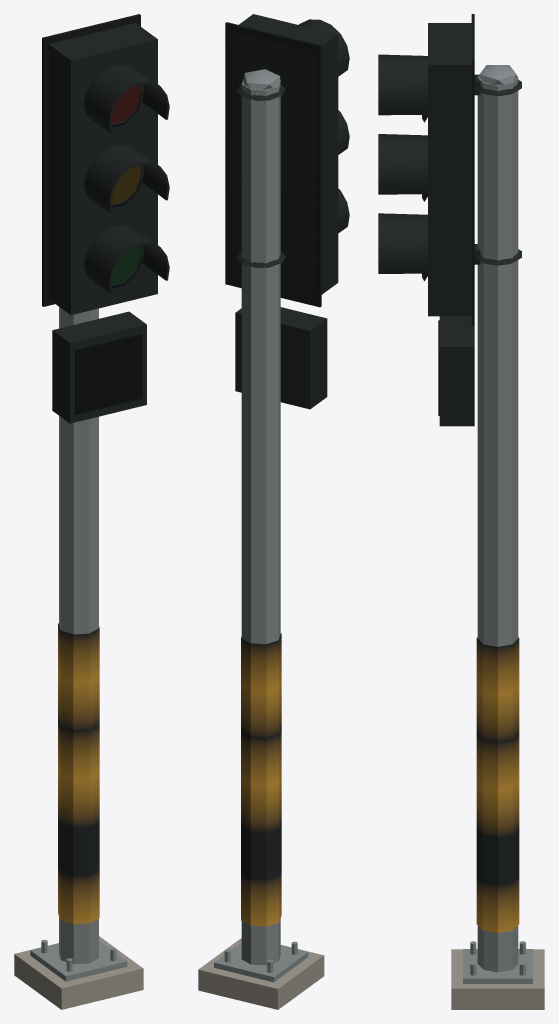
File: cot_den.glb
3 renders of one model, left to right at view 1: azimuth 30°, elevation 25°; view 2: azimuth 150°, elevation 25°; view 3: azimuth 270°, elevation 25°, orthographic. The views are drawn at different scales.
Visible parts, largest first — view 1: cot_den__tat; view 2: cot_den__tat; view 3: cot_den__tat.
Part boxes in pixels (x1,y1,x2,y2): cot_den__tat: (14, 14, 169, 1009); cot_den__tat: (198, 14, 349, 1009); cot_den__tat: (378, 14, 544, 1009).
Bounding box in the file's own units: 0.38 × 3.6 × 0.5703.
